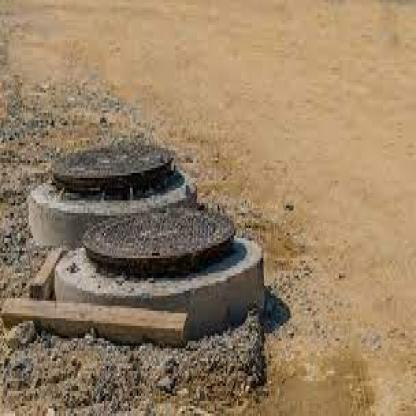closed manhole-not overflowing-: (59, 211, 266, 335), (20, 131, 206, 202)
